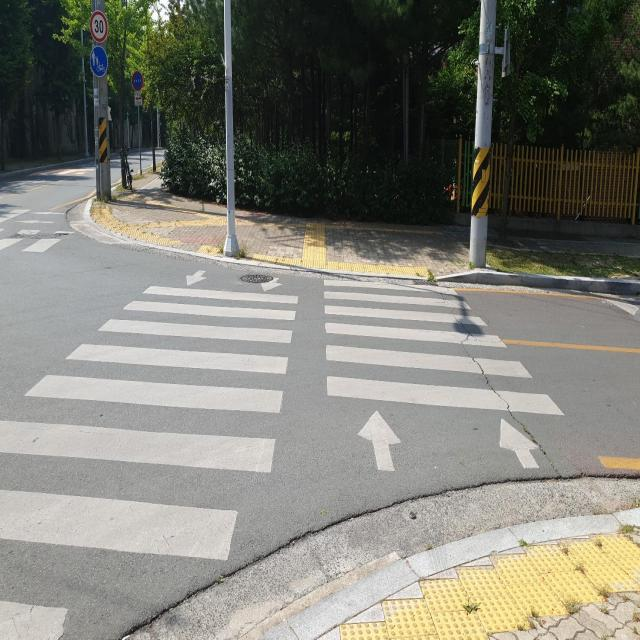횡단보도: (0, 267, 565, 639), (0, 203, 63, 257)
